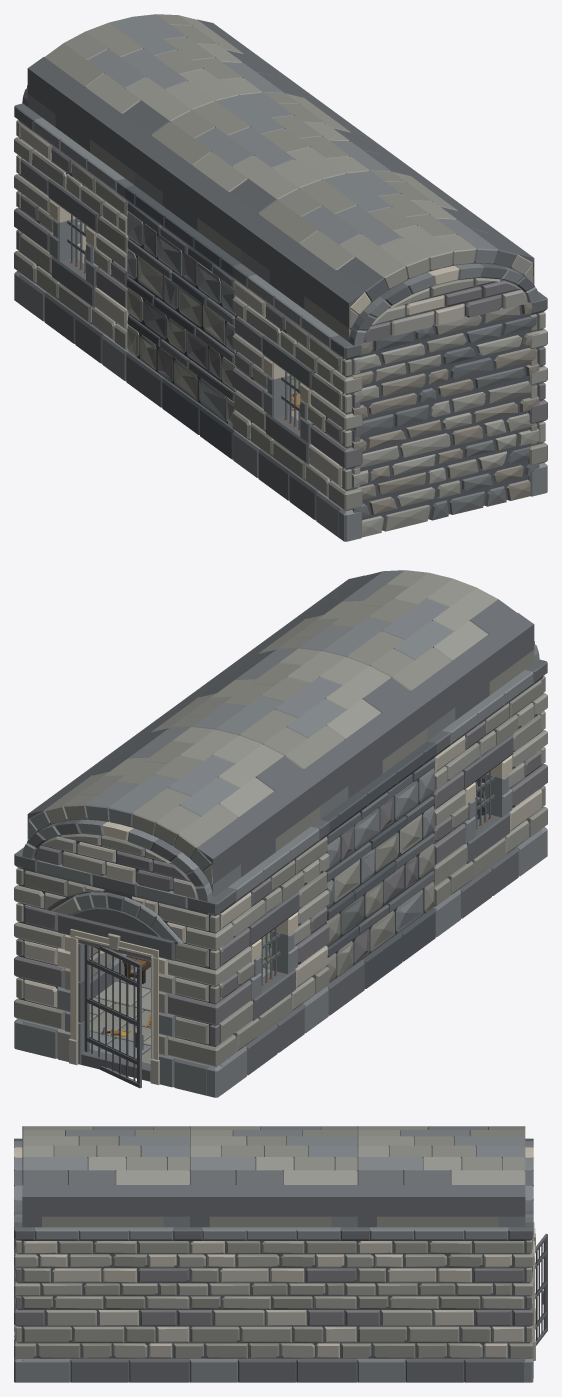
File: SM_LPD_Room_cellcorridor.fbx
3 views of the same model, one above another, from view 1: azimuth 30°, elevation 25°; view 2: azimuth 150°, elevation 25°; view 3: azimuth 270°, elevation 25° (orthographic). The views are drawn at different scales.
Visible parts, largest first — view 1: SM_LPD_Struct_WallRubble_01.001, SM_LPD_Struct_CeilVault_01.001, SM_LPD_Struct_CeilVault_01.003, SM_LPD_Struct_CeilVault_01.002, SM_LPD_Struct_WallBarred_01.002, SM_LPD_Struct_WallCoursed_01.001, SM_LPD_Struct_WallBarred_01.001, SM_LPD_Struct_Lunette_01.002, SM_LPD_Struct_CornerPostPlain_01.001, SM_LPD_Struct_CornerPostPlain_01.003, SM_LPD_Struct_CornerPostPlain_01.002; view 2: SM_LPD_Struct_CeilVault_01.003, SM_LPD_Struct_WallDoorway_01.001, SM_LPD_Struct_CeilVault_01.001, SM_LPD_Struct_CeilVault_01.002, SM_LPD_Struct_WallBarred_01.001, SM_LPD_Struct_WallCoursed_01.001, SM_LPD_Struct_WallBarred_01.002, SM_LPD_Struct_Lunette_01.001, SM_LPD_Door_DoorFrameStone_01.001, SM_LPD_Door_CellDoorBars_01.001, SM_LPD_Floor_PavingFlagstone_01.002, SM_LPD_Struct_CornerPostPlain_01.002 (+3 smaller); view 3: SM_LPD_Struct_WallAshlar_01.001, SM_LPD_Struct_WallAshlar_01.002, SM_LPD_Struct_WallAshlar_01.003, SM_LPD_Struct_CeilVault_01.003, SM_LPD_Struct_CeilVault_01.001, SM_LPD_Struct_CeilVault_01.002, SM_LPD_Struct_CornerPostPlain_01.003, SM_LPD_Struct_CornerPostPlain_01.004, SM_LPD_Door_CellDoorBars_01.001, SM_LPD_Struct_Lunette_01.001, SM_LPD_Struct_Lunette_01.002, SM_LPD_Door_DoorFrameStone_01.001.
Part boxes in pixels (x1=…): SM_LPD_Struct_WallRubble_01.001: x1=352, y1=302, x2=539, y2=537; SM_LPD_Struct_CeilVault_01.001: x1=241, y1=171, x2=534, y2=341; SM_LPD_Struct_CeilVault_01.003: x1=27, y1=14, x2=319, y2=184; SM_LPD_Struct_CeilVault_01.002: x1=134, y1=92, x2=426, y2=263; SM_LPD_Struct_WallBarred_01.002: x1=18, y1=107, x2=133, y2=381; SM_LPD_Struct_WallCoursed_01.001: x1=125, y1=185, x2=241, y2=459; SM_LPD_Struct_WallBarred_01.001: x1=232, y1=263, x2=346, y2=537; SM_LPD_Struct_Lunette_01.002: x1=349, y1=263, x2=539, y2=345; SM_LPD_Struct_CornerPostPlain_01.001: x1=336, y1=338, x2=362, y2=541; SM_LPD_Struct_CornerPostPlain_01.003: x1=528, y1=291, x2=547, y2=496; SM_LPD_Struct_CornerPostPlain_01.002: x1=14, y1=103, x2=31, y2=303; SM_LPD_Struct_CeilVault_01.003: x1=27, y1=727, x2=320, y2=897; SM_LPD_Struct_WallDoorway_01.001: x1=22, y1=857, x2=209, y2=1095; SM_LPD_Struct_CeilVault_01.001: x1=242, y1=570, x2=534, y2=740; SM_LPD_Struct_CeilVault_01.002: x1=135, y1=648, x2=427, y2=819; SM_LPD_Struct_WallBarred_01.001: x1=428, y1=663, x2=543, y2=937; SM_LPD_Struct_WallCoursed_01.001: x1=320, y1=741, x2=436, y2=1015; SM_LPD_Struct_WallBarred_01.002: x1=218, y1=819, x2=329, y2=1093; SM_LPD_Struct_Lunette_01.001: x1=22, y1=819, x2=212, y2=901; SM_LPD_Door_DoorFrameStone_01.001: x1=69, y1=929, x2=159, y2=1085; SM_LPD_Door_CellDoorBars_01.001: x1=84, y1=944, x2=143, y2=1088; SM_LPD_Floor_PavingFlagstone_01.002: x1=89, y1=967, x2=150, y2=1063; SM_LPD_Struct_CornerPostPlain_01.002: x1=200, y1=894, x2=225, y2=1097; SM_LPD_Struct_WallAshlar_01.001: x1=357, y1=1227, x2=525, y2=1382; SM_LPD_Struct_WallAshlar_01.002: x1=190, y1=1227, x2=357, y2=1382; SM_LPD_Struct_WallAshlar_01.003: x1=22, y1=1227, x2=189, y2=1382; SM_LPD_Struct_CeilVault_01.003: x1=357, y1=1126, x2=525, y2=1227; SM_LPD_Struct_CeilVault_01.001: x1=22, y1=1126, x2=189, y2=1227; SM_LPD_Struct_CeilVault_01.002: x1=190, y1=1126, x2=357, y2=1227; SM_LPD_Struct_CornerPostPlain_01.003: x1=14, y1=1227, x2=29, y2=1382; SM_LPD_Struct_CornerPostPlain_01.004: x1=518, y1=1227, x2=533, y2=1382; SM_LPD_Door_CellDoorBars_01.001: x1=535, y1=1233, x2=547, y2=1345; SM_LPD_Struct_Lunette_01.001: x1=525, y1=1138, x2=533, y2=1227; SM_LPD_Struct_Lunette_01.002: x1=14, y1=1138, x2=22, y2=1227; SM_LPD_Door_DoorFrameStone_01.001: x1=533, y1=1222, x2=535, y2=1360.
Bounding box in the file's own units: 4.4 × 5.34 × 12.74.
